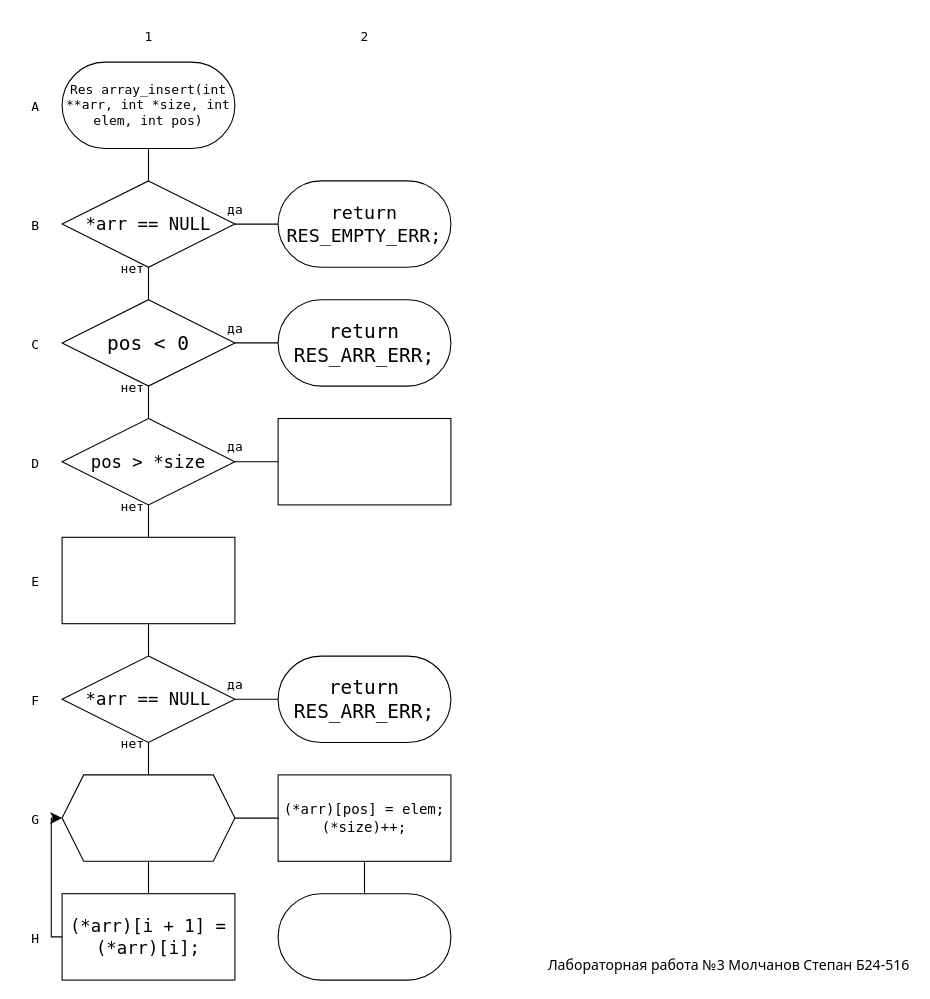
This 930x999 diagram has some shape labels left out. The shapes that lost their labels are listed below. From the top down, each one's centre as x and y in pixels, then its label:
At point 364,461: "pos = *size;".
At point 148,580: "*arr = (int *) realloc(*arr, (*size + 1) * sizeof(int));".
At point 148,817: "int i = *size - 1; i >= pos; i--".
At point 364,936: "return RES_OK;".
